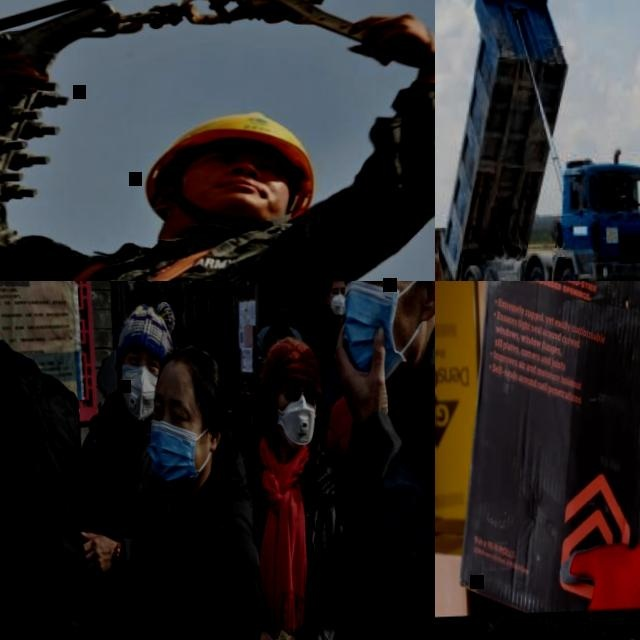Mask: (339, 281, 407, 388), (146, 418, 201, 494), (117, 362, 158, 423), (278, 397, 318, 452), (329, 294, 347, 319), (275, 313, 290, 330)
NO-Hardhat: (154, 345, 225, 408), (258, 336, 322, 393), (113, 300, 173, 357), (273, 283, 294, 305), (167, 284, 184, 302), (110, 312, 121, 325)
NO-Mask: (158, 165, 285, 212)
NO-Safety Vest: (308, 351, 435, 640), (231, 442, 340, 640), (108, 501, 252, 640), (0, 366, 72, 640), (81, 416, 158, 640), (317, 330, 342, 377), (111, 325, 122, 346), (175, 320, 185, 342)
Person: (0, 11, 435, 281), (68, 301, 186, 640), (0, 281, 96, 640), (537, 281, 640, 610), (141, 107, 321, 220), (165, 288, 189, 350), (111, 308, 122, 346)
machinery: (435, 0, 640, 281)
